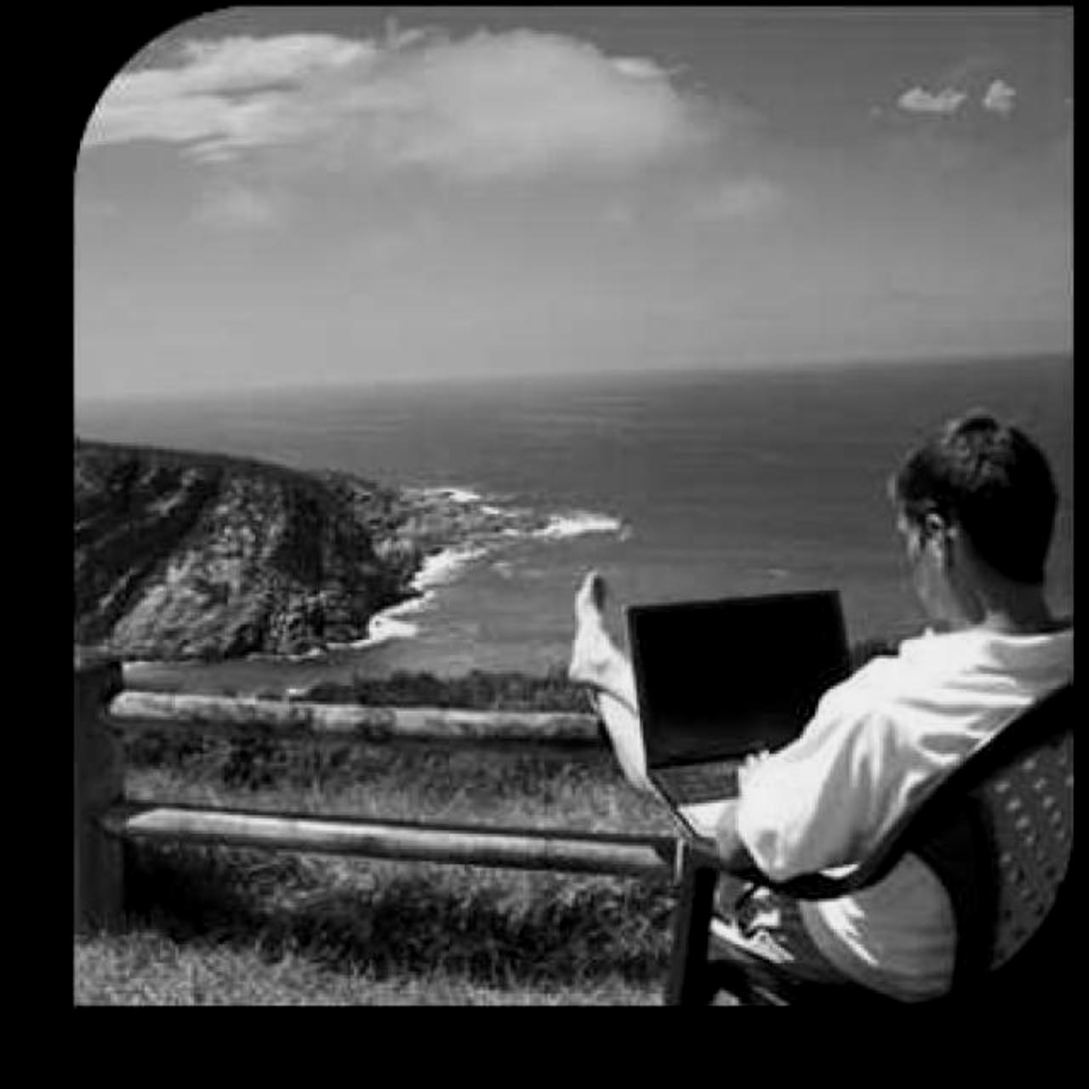laptop: (630, 594, 875, 839)
